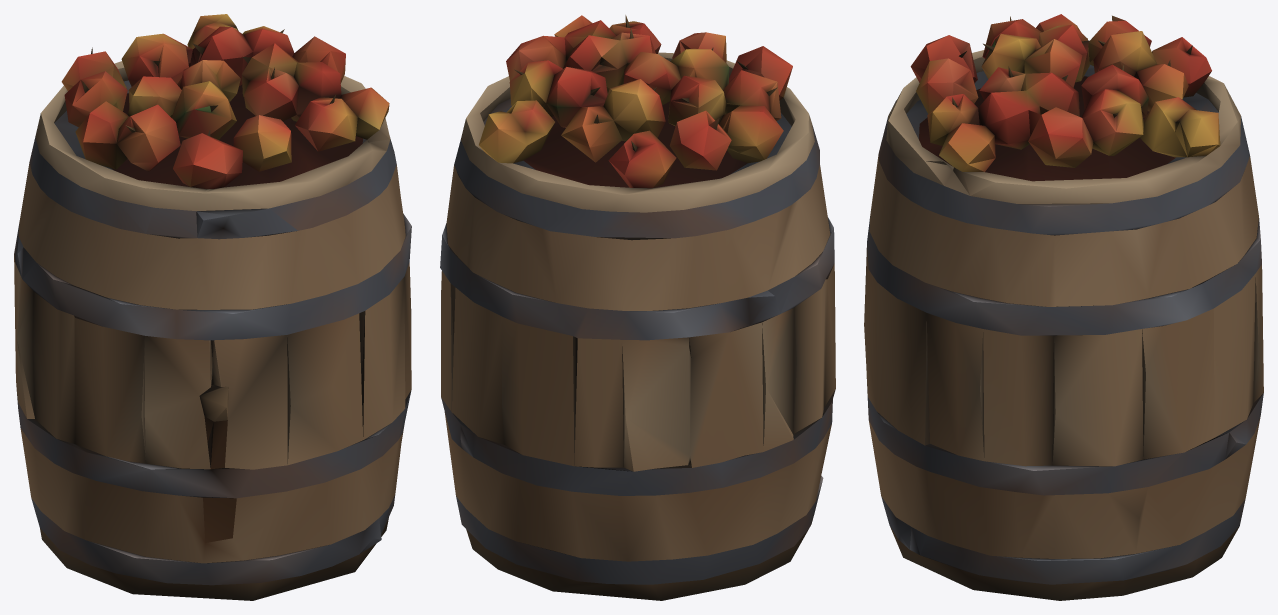
Rendered from barrel_apples.glb.
3 views of the same model, side by side, from view 1: azimuth 30°, elevation 25°; view 2: azimuth 150°, elevation 25°; view 3: azimuth 270°, elevation 25° (orthographic).
Visible parts, largest first — view 1: barrel_apples_LOD0; view 2: barrel_apples_LOD0; view 3: barrel_apples_LOD0.
Part boxes in pixels (x1=…): barrel_apples_LOD0: x1=14, y1=14, x2=411, y2=600; barrel_apples_LOD0: x1=440, y1=15, x2=835, y2=600; barrel_apples_LOD0: x1=864, y1=14, x2=1263, y2=600.
Size of what is drawn, in the model's own units: 0.7111 by 0.9398 by 0.7071.
